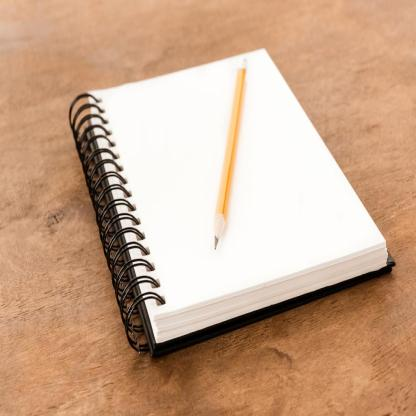pencil: (208, 51, 253, 263)
